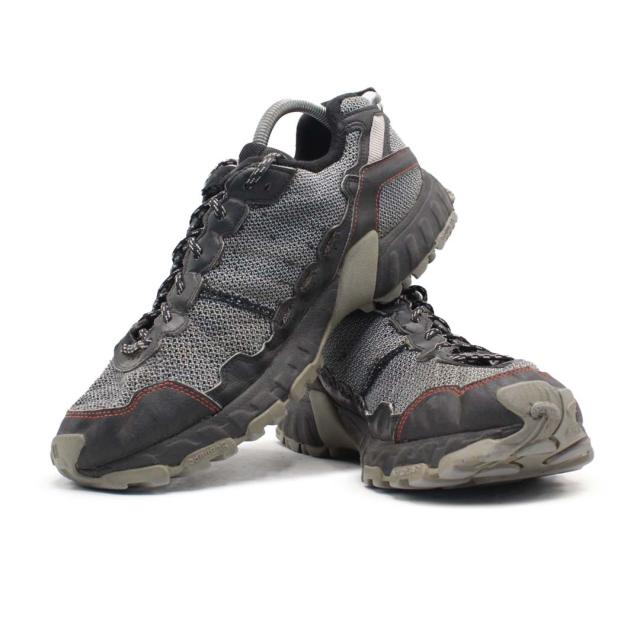heel: (331, 88, 423, 240)
midsole: (52, 171, 460, 493), (279, 385, 593, 487)
uppersole: (59, 144, 378, 473), (322, 288, 569, 442)
